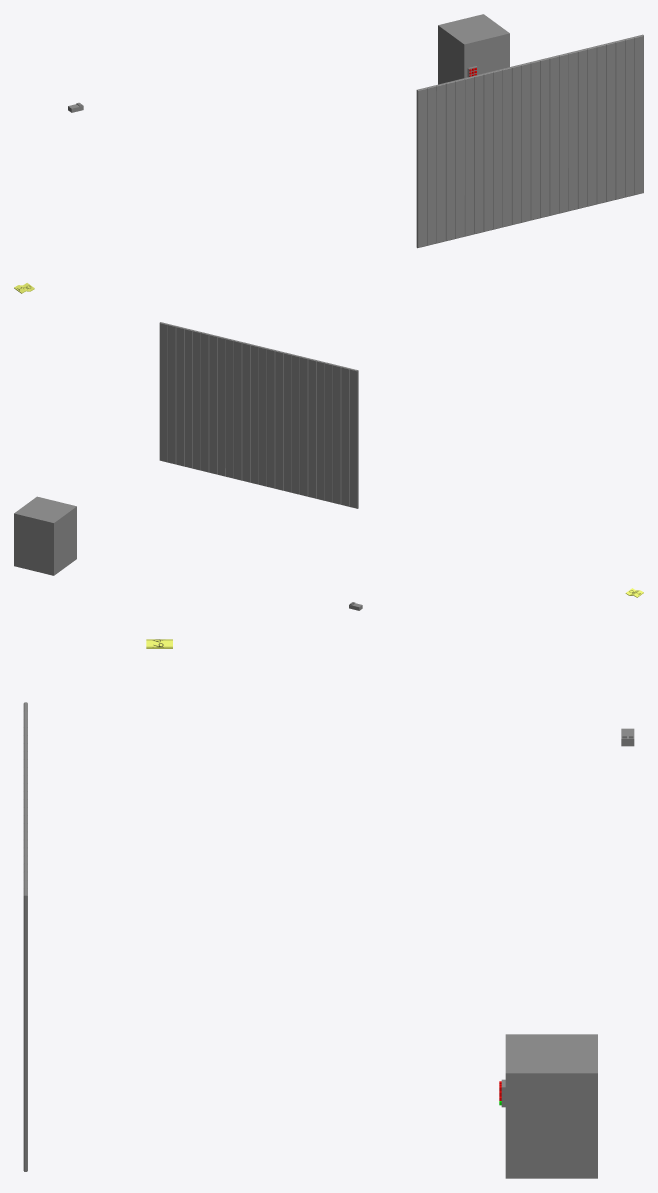
File: interactive.glb
3 views of the same model, one above another, from view 1: azimuth 30°, elevation 25°; view 2: azimuth 150°, elevation 25°; view 3: azimuth 270°, elevation 25° (orthographic). The views are drawn at different scales.
Visible parts, largest first — view 1: Garage, Safe; view 2: Garage, Safe; view 3: Safe, Garage.
Part boxes in pixels (x1=…): Garage: x1=416, y1=34, x2=643, y2=248; Safe: x1=438, y1=14, x2=509, y2=84; Garage: x1=159, y1=322, x2=358, y2=508; Safe: x1=14, y1=496, x2=76, y2=575; Safe: x1=501, y1=1034, x2=597, y2=1178; Garage: x1=23, y1=702, x2=27, y2=1171.
Bounding box in the file's own units: 13.31 × 3.44 × 6.81.
5 materials, 1 textured.
